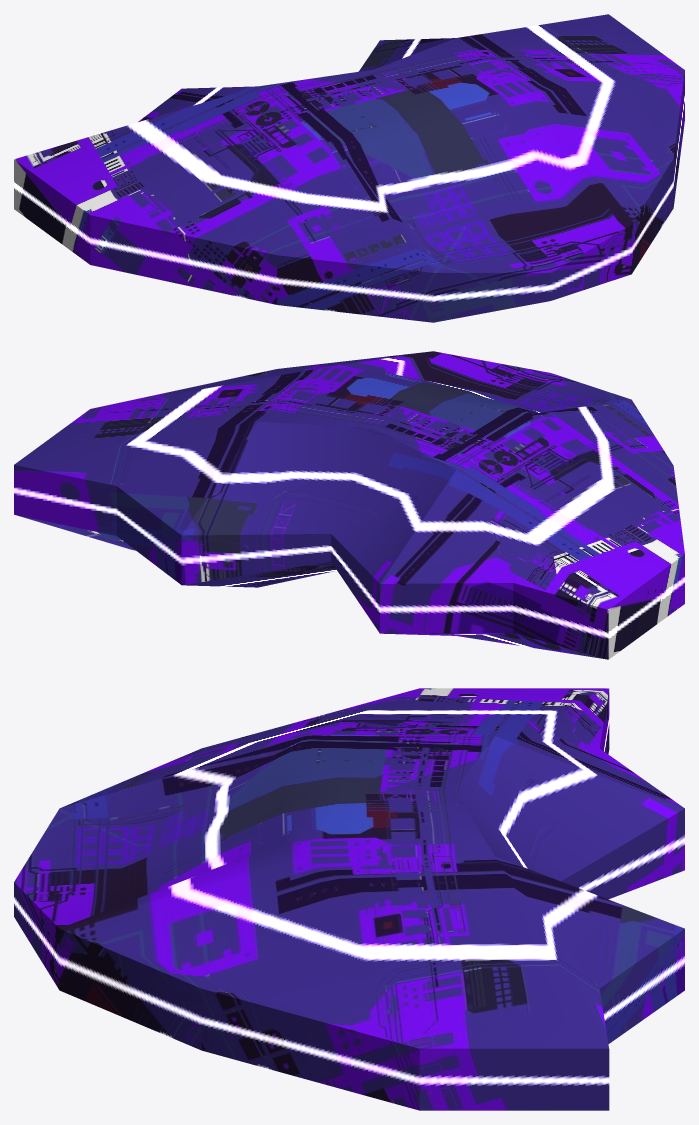
File: heavyfighter1.fbx
3 views of the same model, one above another, from view 1: azimuth 30°, elevation 25°; view 2: azimuth 150°, elevation 25°; view 3: azimuth 270°, elevation 25° (orthographic). The views are drawn at different scales.
Parts seen in each view (by area): view 1: Cube; view 2: Cube; view 3: Cube.
Part boxes in pixels (x1,y1,x2,y2): Cube: (14,14,684,322); Cube: (14,351,684,659); Cube: (14,688,684,1110).
Size of the model in its own units: 300 by 82.4 by 236.
